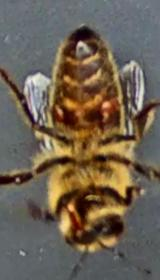varroa_mite: (93, 90, 130, 132), (48, 98, 70, 134)
